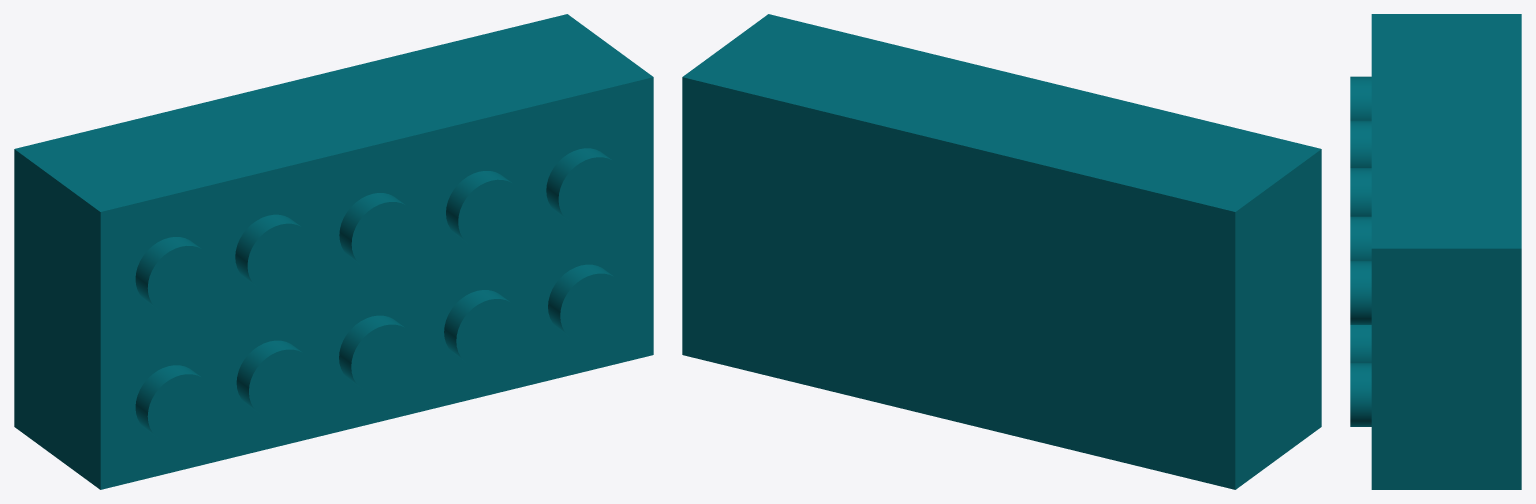
File: brick-large-solarized-dark.glb
3 views of the same model, side by side, from view 1: azimuth 30°, elevation 25°; view 2: azimuth 150°, elevation 25°; view 3: azimuth 270°, elevation 25° (orthographic). The views are drawn at different scales.
Size of the model in its own units: 1 by 0.48 by 0.3084.
